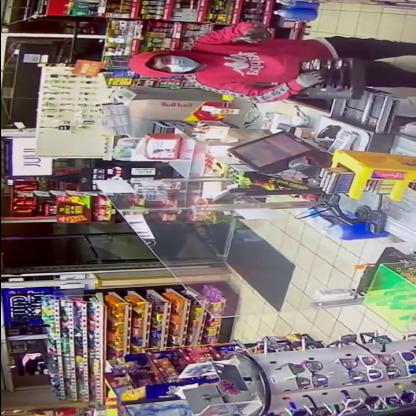Pistol: (225, 30, 277, 46)
